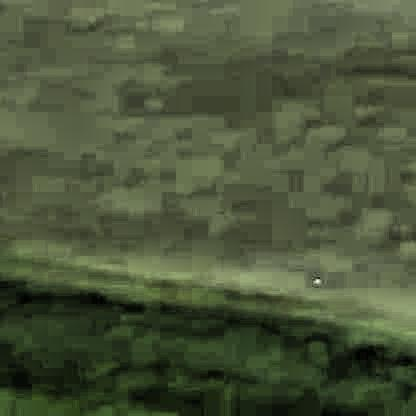golfball: (309, 273, 319, 284)
